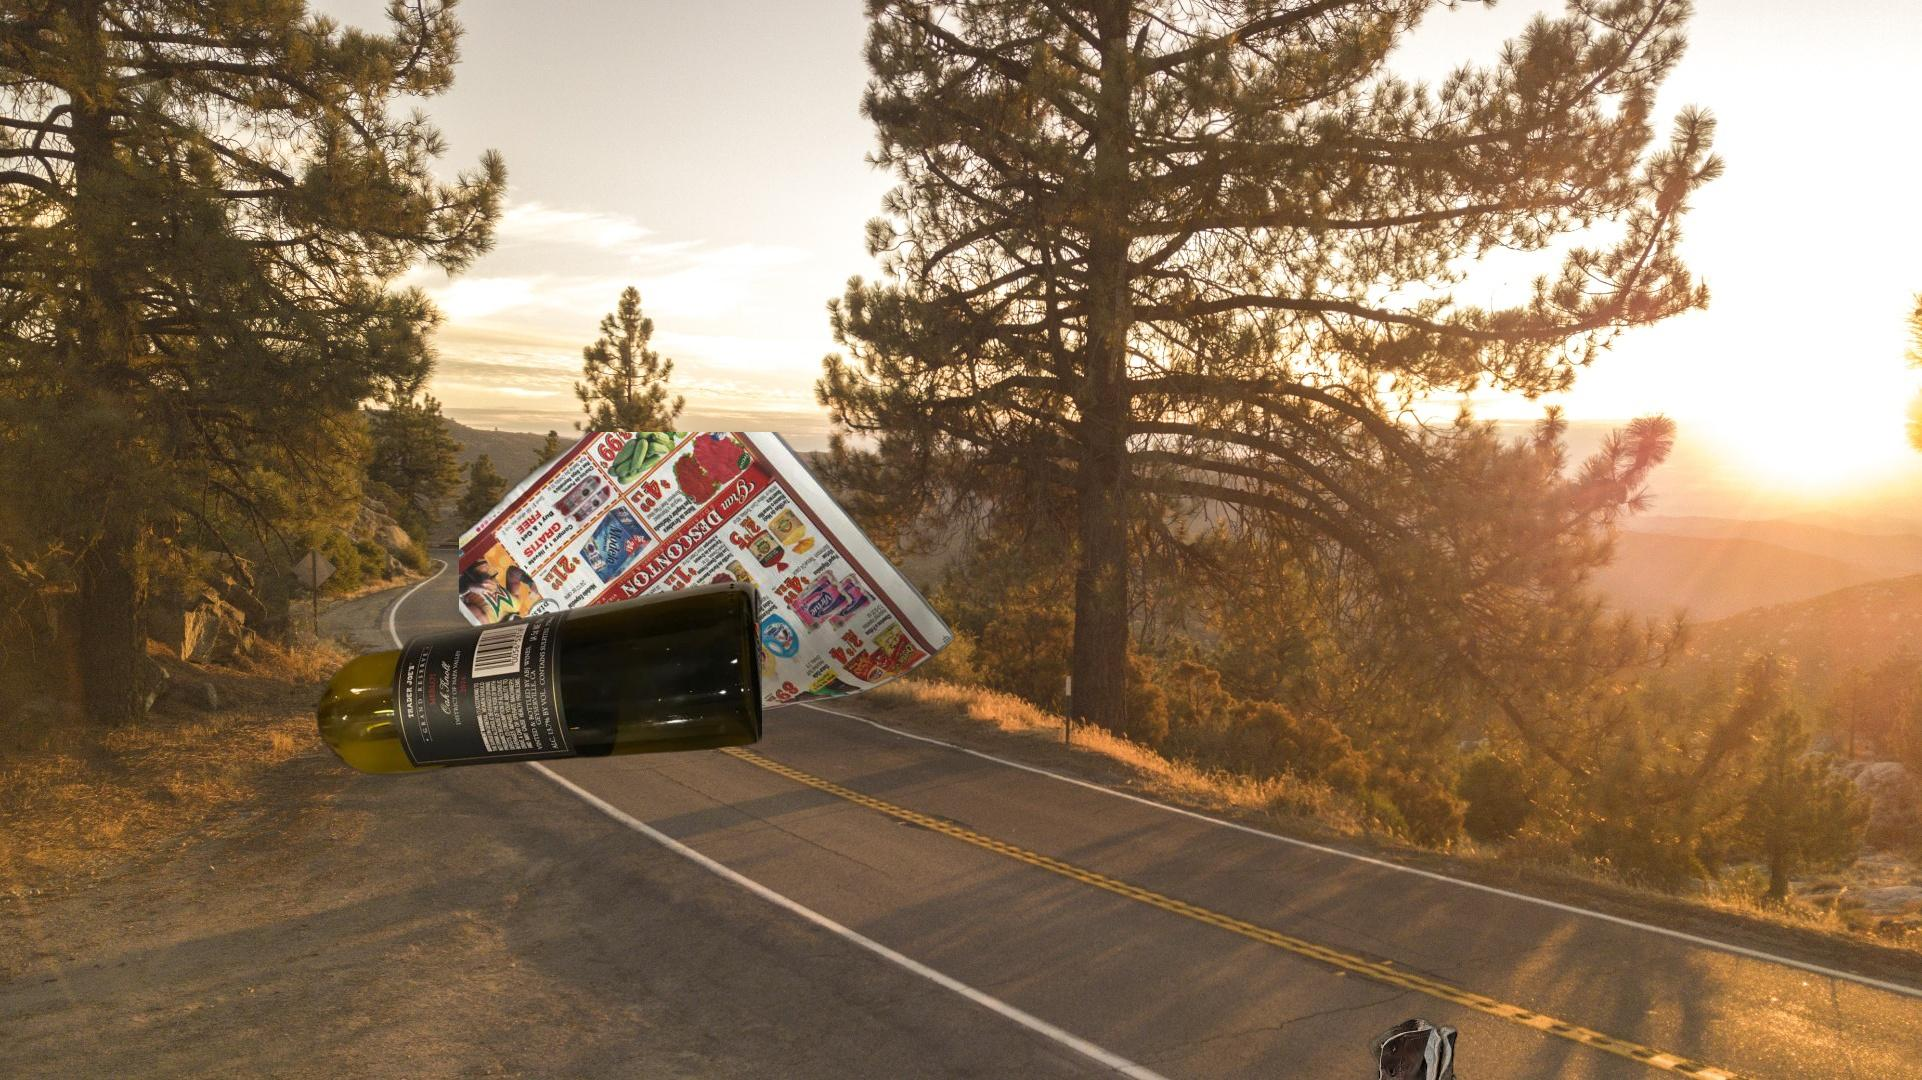glass: (249, 576, 762, 780)
paper: (459, 432, 958, 753)
paper-bag: (319, 1062, 540, 1080)
shoes: (1306, 1017, 1469, 1080)
